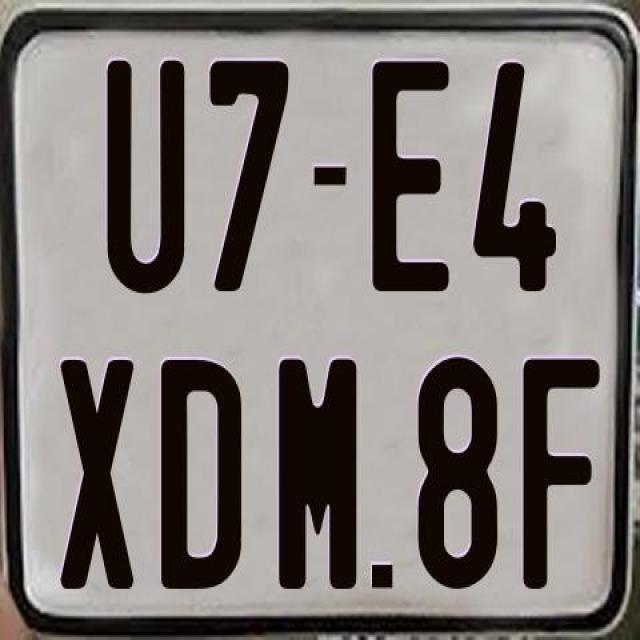4: (472, 62, 562, 292)
7: (208, 59, 292, 291)
8: (413, 352, 495, 592)
D: (160, 357, 242, 587)
E: (372, 61, 454, 294)
F: (521, 353, 599, 584)
M: (274, 354, 354, 594)
U: (102, 58, 182, 292)
X: (58, 358, 138, 597)
